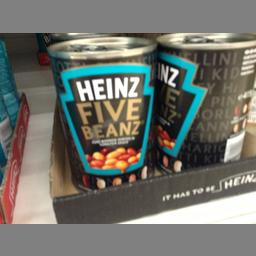beans: (50, 36, 156, 188), (160, 30, 255, 172)
